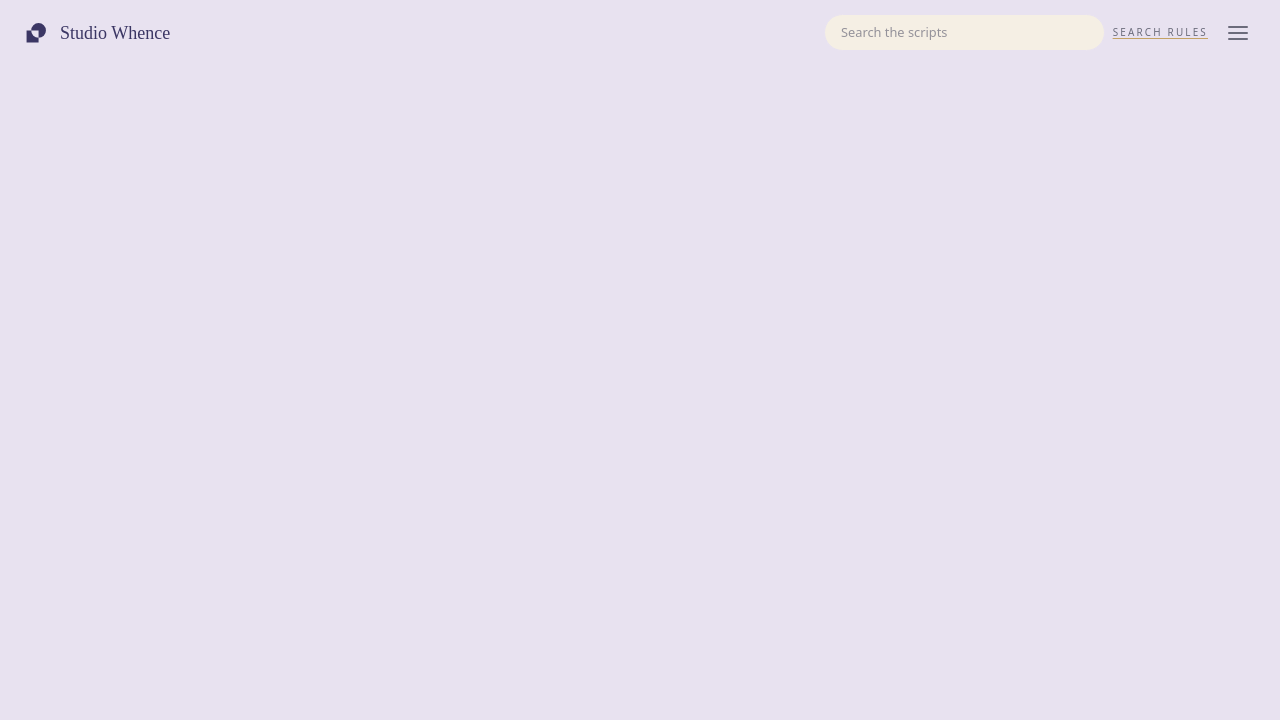
Scenario: Topbar — open menu contents › clicking a link closes the menu
This screenshot has width=1280, height=720.
Click the button named "open menu".
click(1238, 33)  # box [1220, 15, 1256, 51]
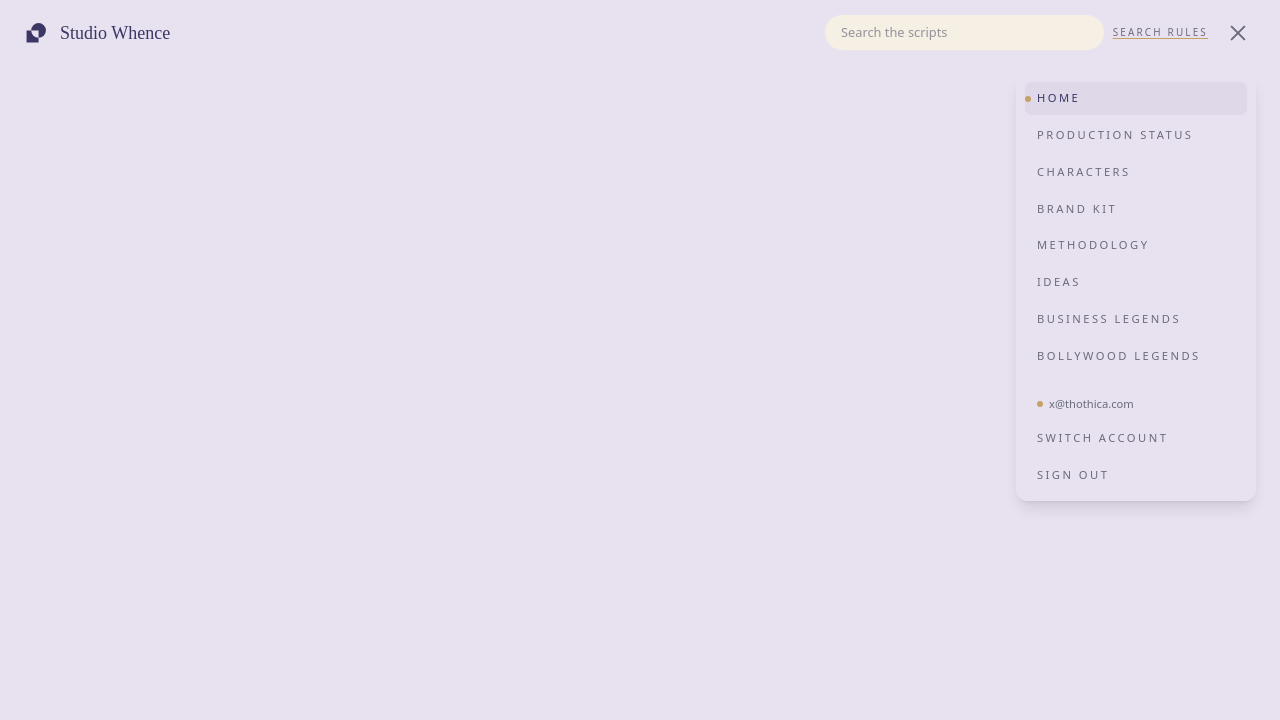
Click the link "Home".
click(1136, 99)  # box [1025, 82, 1247, 115]
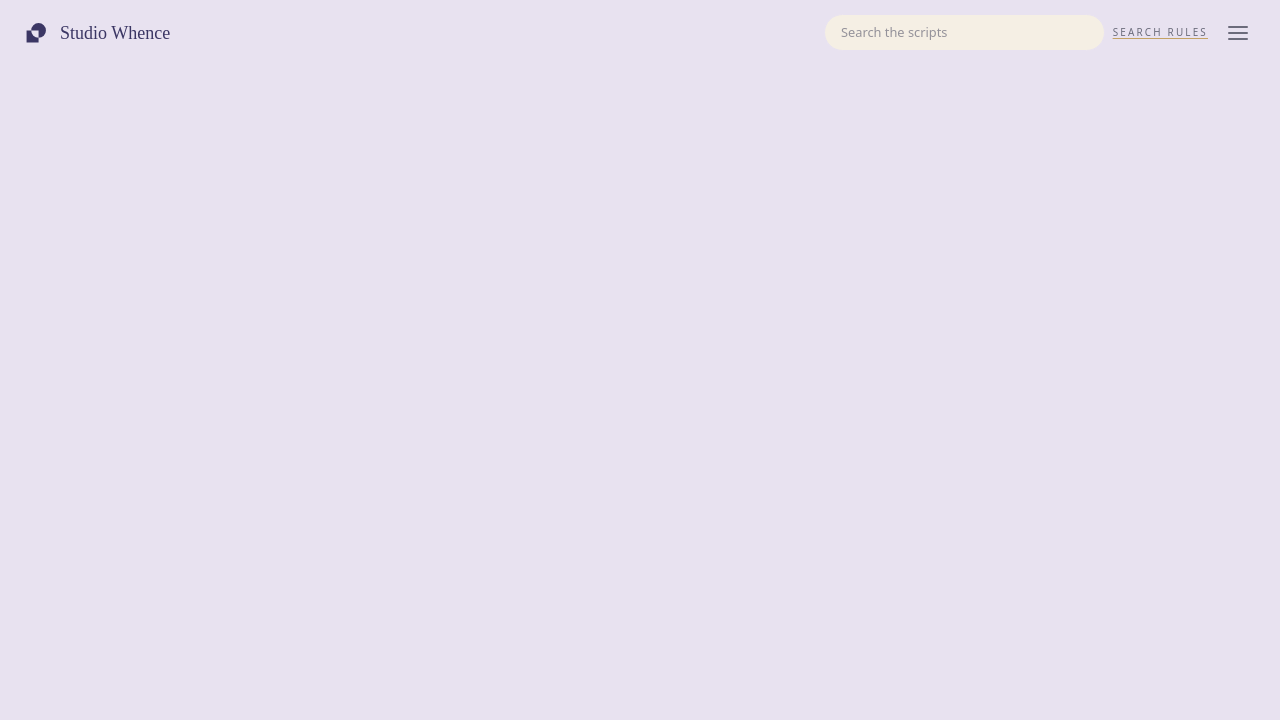
Expected: the link "Home" is gone
